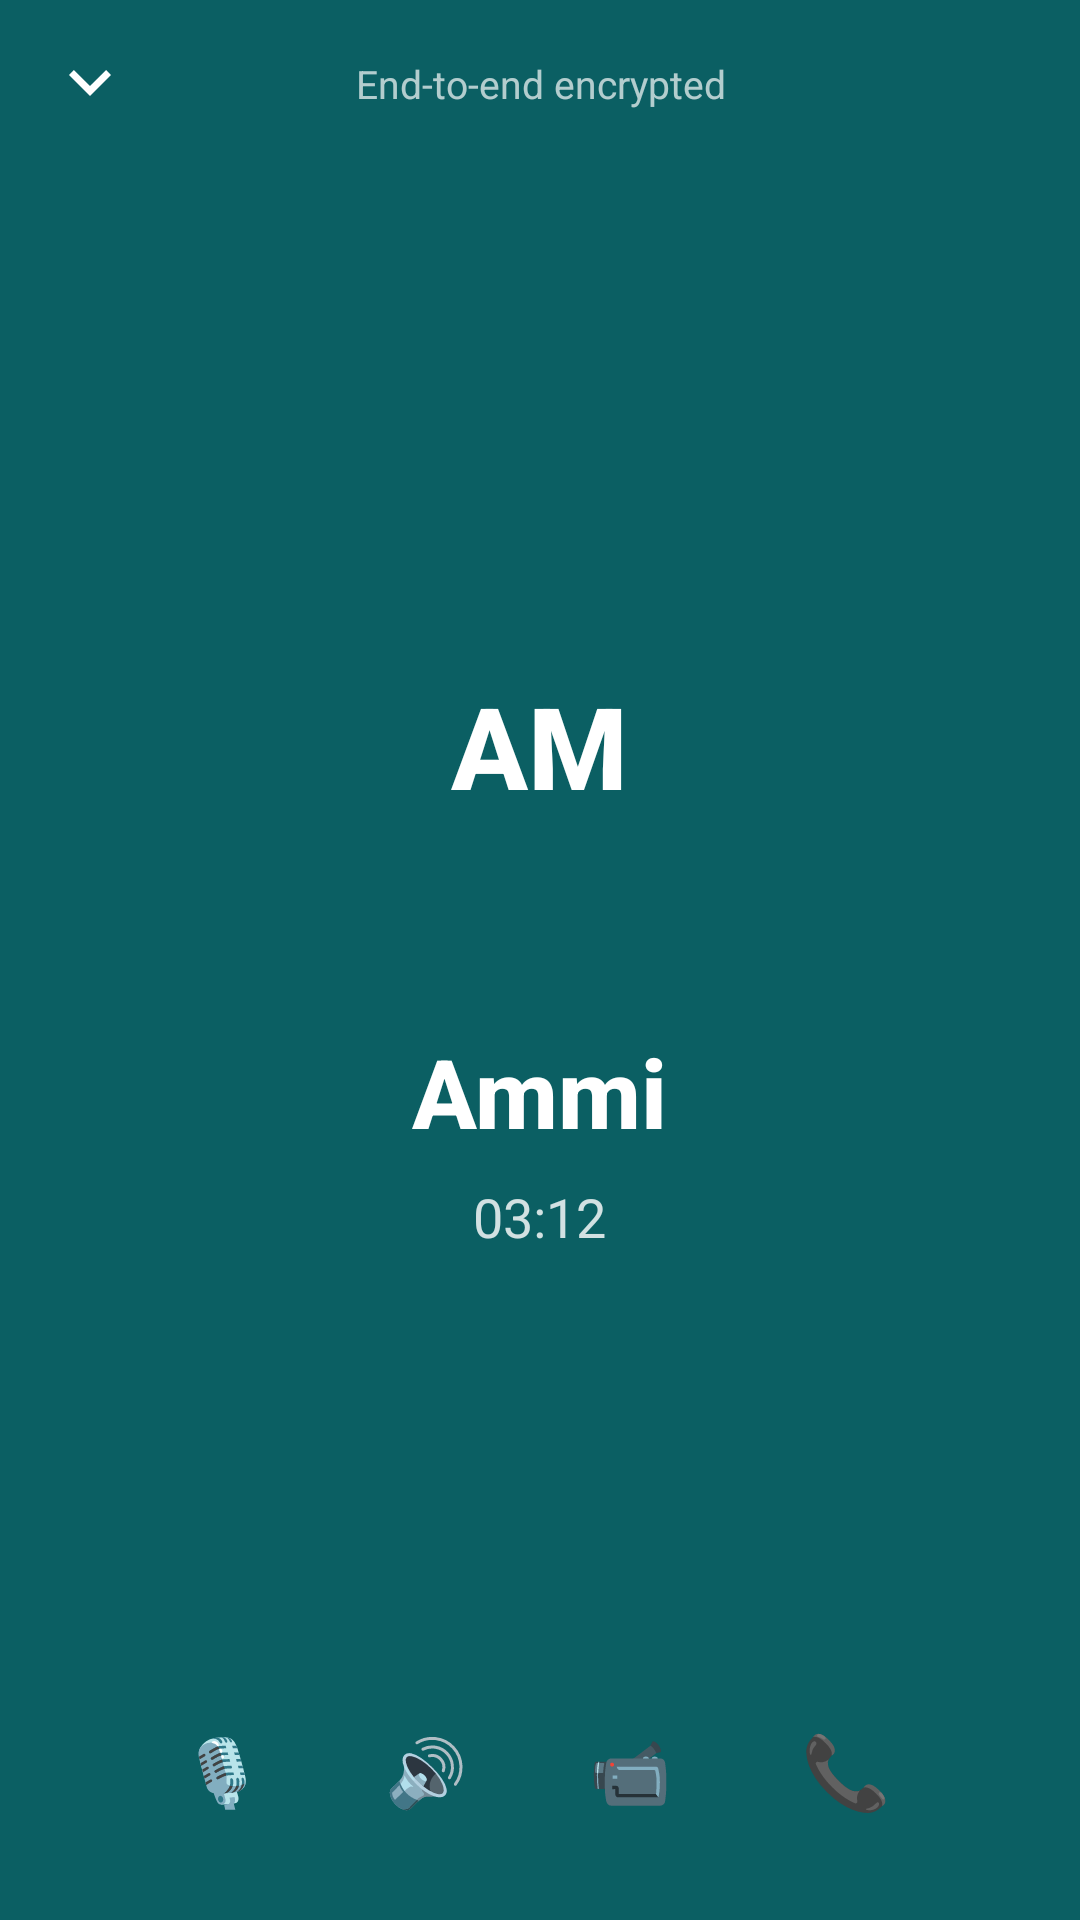

Named icons in this screenshot (1080x1920) and their centers, (x=x, y=y):
Minimize: (x=90, y=83)
